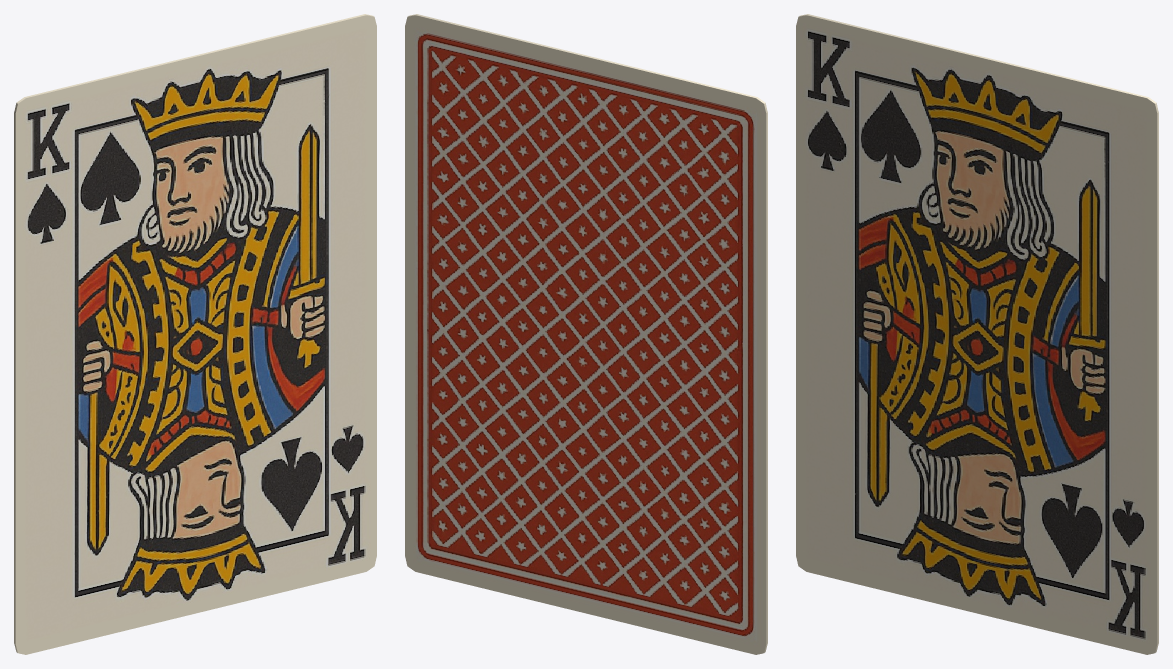
File: Card_K.fbx
The picture shows the model from 3 angles, left to right: view 1: azimuth 30°, elevation 25°; view 2: azimuth 150°, elevation 25°; view 3: azimuth 330°, elevation 25°; orthographic projection.
Parts seen in each view (by area): view 1: Card_A; view 2: Card_A; view 3: Card_A.
Boxes of the visible parts, bbox=[...] form: Card_A: bbox=[14, 14, 376, 654]; Card_A: bbox=[405, 14, 767, 654]; Card_A: bbox=[796, 14, 1158, 654].
Bounding box in the file's own units: 52.34 × 77.06 × 0.3937.
